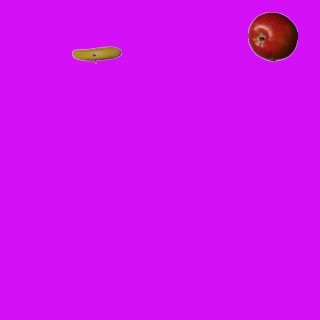Apple Braeburn: (247, 11, 297, 61)
Banana: (71, 29, 121, 79)
